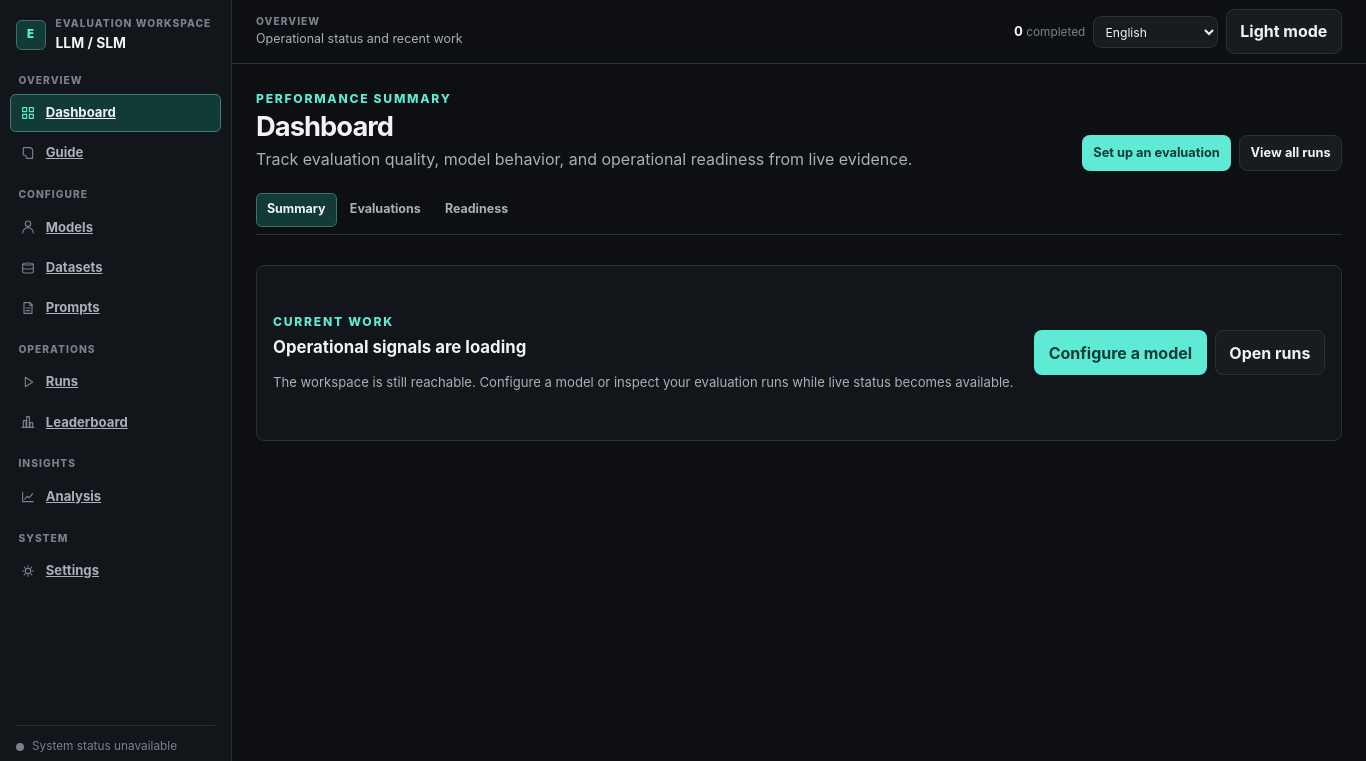
Test: evaluation run launch workspace › uses saved field defaults when they are present in the loaded schema
The width and height of the screenshot is (1366, 761).
Click the link "Runs". click: (49, 382)
box: x1=20 y1=373 x2=78 y2=390
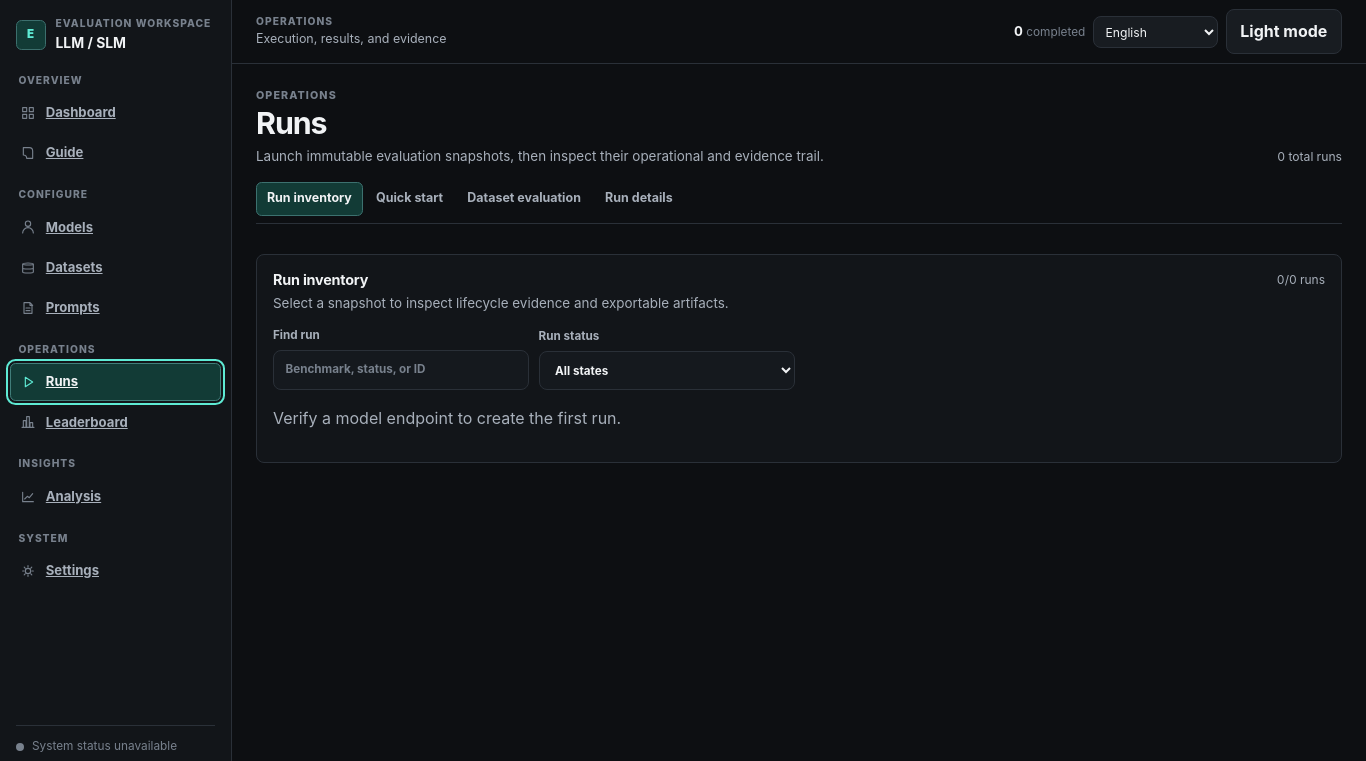
Click the tab "Dataset evaluation". click: (524, 199)
box: x1=456 y1=182 x2=592 y2=216
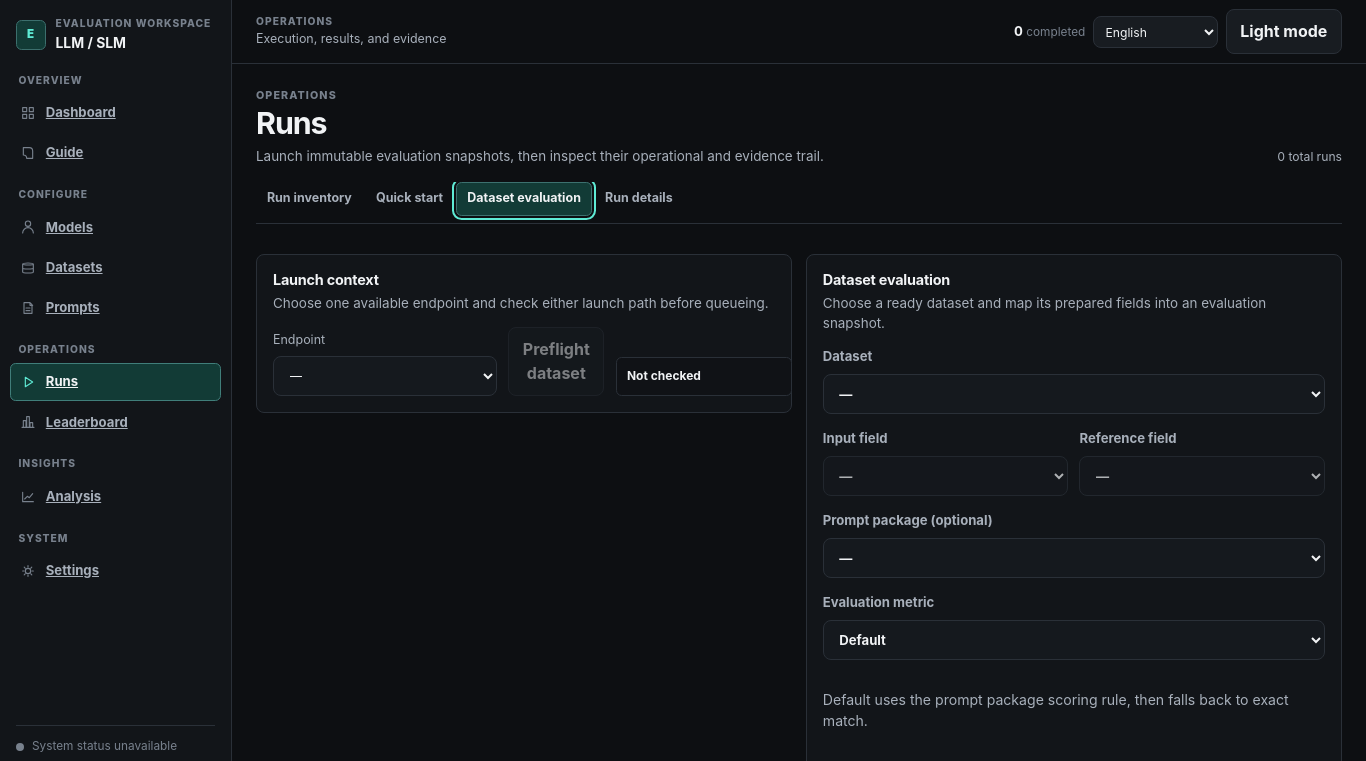
Select "demo v1" in the dropdown labelled "Dataset". click: (1074, 394)
box: x1=823 y1=374 x2=1325 y2=414
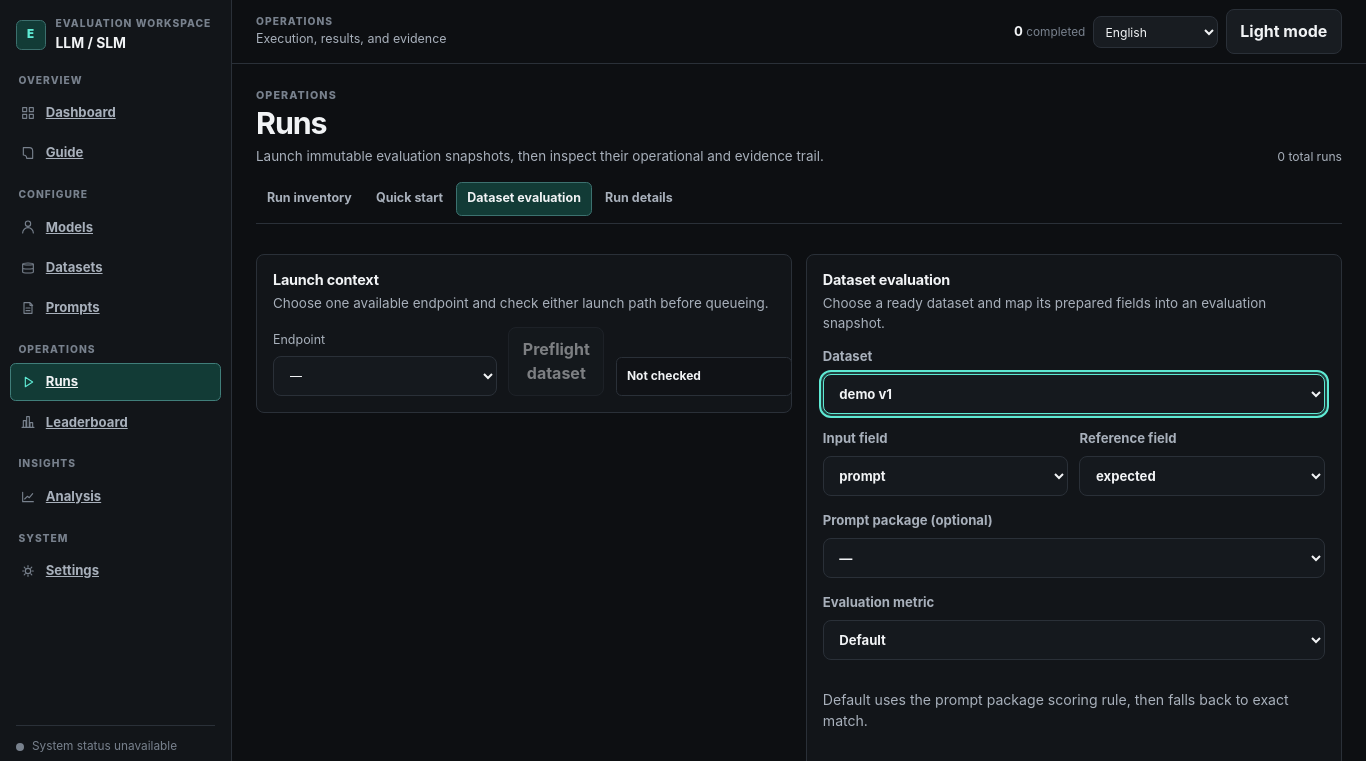
Check: the dropdown labelled "Input field" shows "prompt", box x1=823 y1=456 x2=1068 y2=496
Check: the dropdown labelled "Reference field" shows "expected", box x1=1080 y1=456 x2=1325 y2=496
